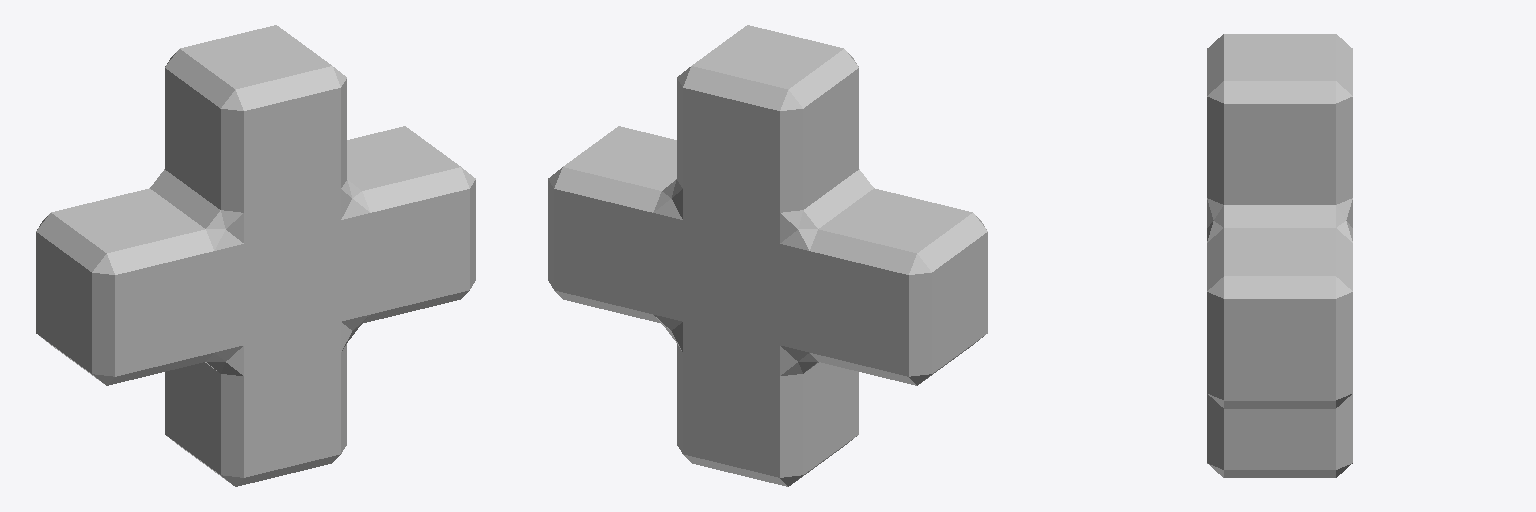
Rendered from HealthPickupModel.obj.
The picture shows the model from 3 angles: view 1: azimuth 30°, elevation 25°; view 2: azimuth 150°, elevation 25°; view 3: azimuth 270°, elevation 25°; orthographic projection.
Parts seen in each view (by area): view 1: HealthPickupModel; view 2: HealthPickupModel; view 3: HealthPickupModel.
Boxes of the visible parts, x1,y1,x2,y2 form: HealthPickupModel: [36, 25, 475, 486]; HealthPickupModel: [548, 25, 987, 486]; HealthPickupModel: [1207, 34, 1352, 477].
Size of the model in its own units: 3.03 by 3 by 1.